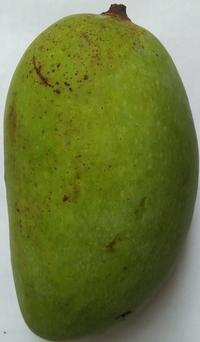Unripe: (1, 1, 200, 342)
